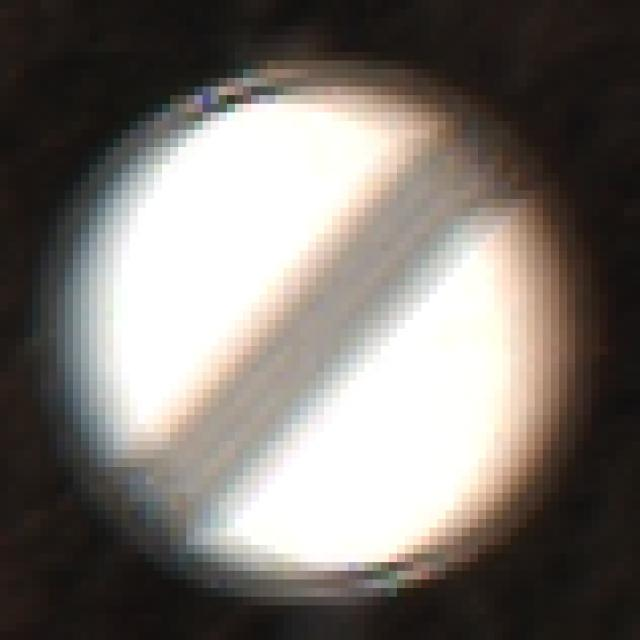restriction ends: (31, 47, 604, 600)
